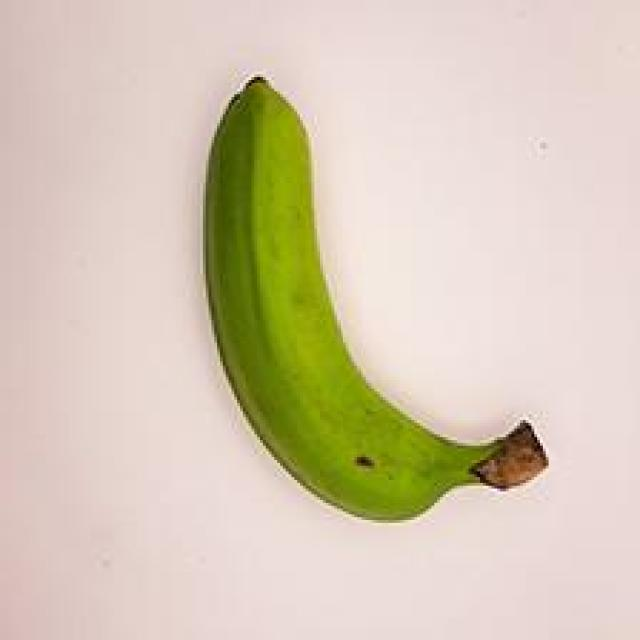raw: (183, 52, 584, 577)
